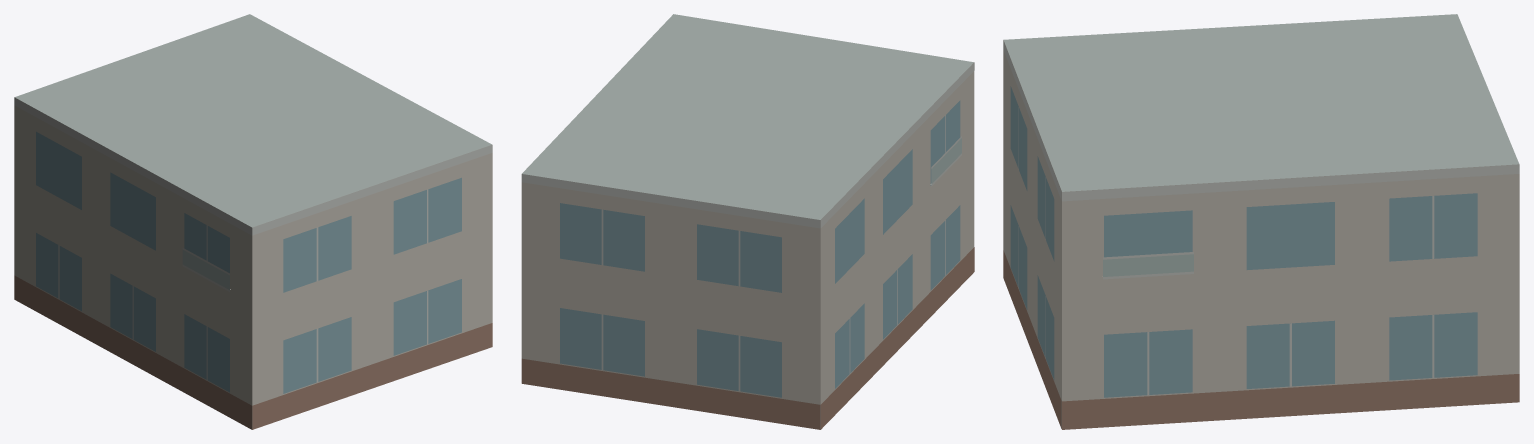
File: survey-upis-32666985.glb
3 renders of one model, left to right at view 1: azimuth 30°, elevation 25°; view 2: azimuth 150°, elevation 25°; view 3: azimuth 270°, elevation 25°, orthographic. The views are drawn at different scales.
Parts seen in each view (by area): view 1: survey-upis-32666985.tmp; view 2: survey-upis-32666985.tmp; view 3: survey-upis-32666985.tmp.
Boxes of the visible parts, left/top/right/bottom form: survey-upis-32666985.tmp: left=14, top=14, right=492, bottom=429; survey-upis-32666985.tmp: left=521, top=14, right=974, bottom=429; survey-upis-32666985.tmp: left=1003, top=14, right=1519, bottom=429.
Size of the model in its own units: 9.79 by 6.1 by 12.
